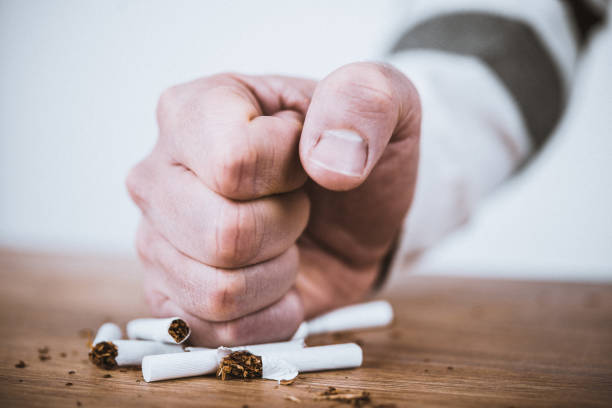cigarette: (141, 339, 305, 383), (213, 340, 364, 386), (307, 298, 394, 334), (102, 339, 190, 368), (126, 315, 193, 343), (89, 322, 123, 370)
